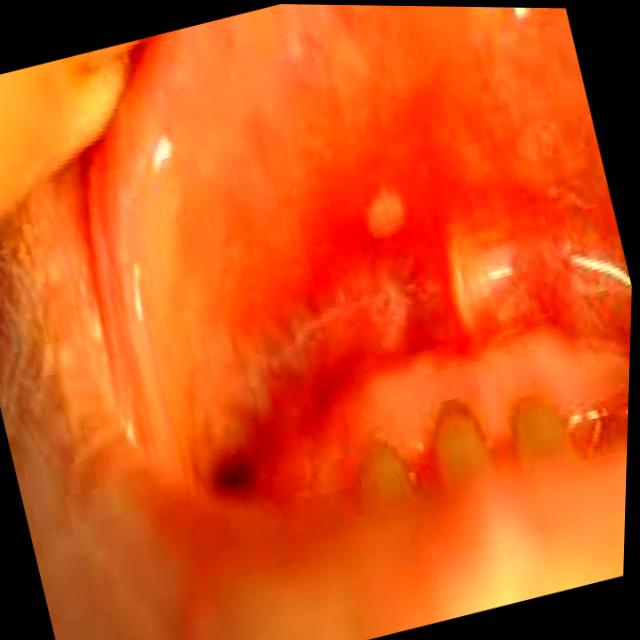ulcer: (448, 232, 516, 328), (367, 188, 407, 237)
